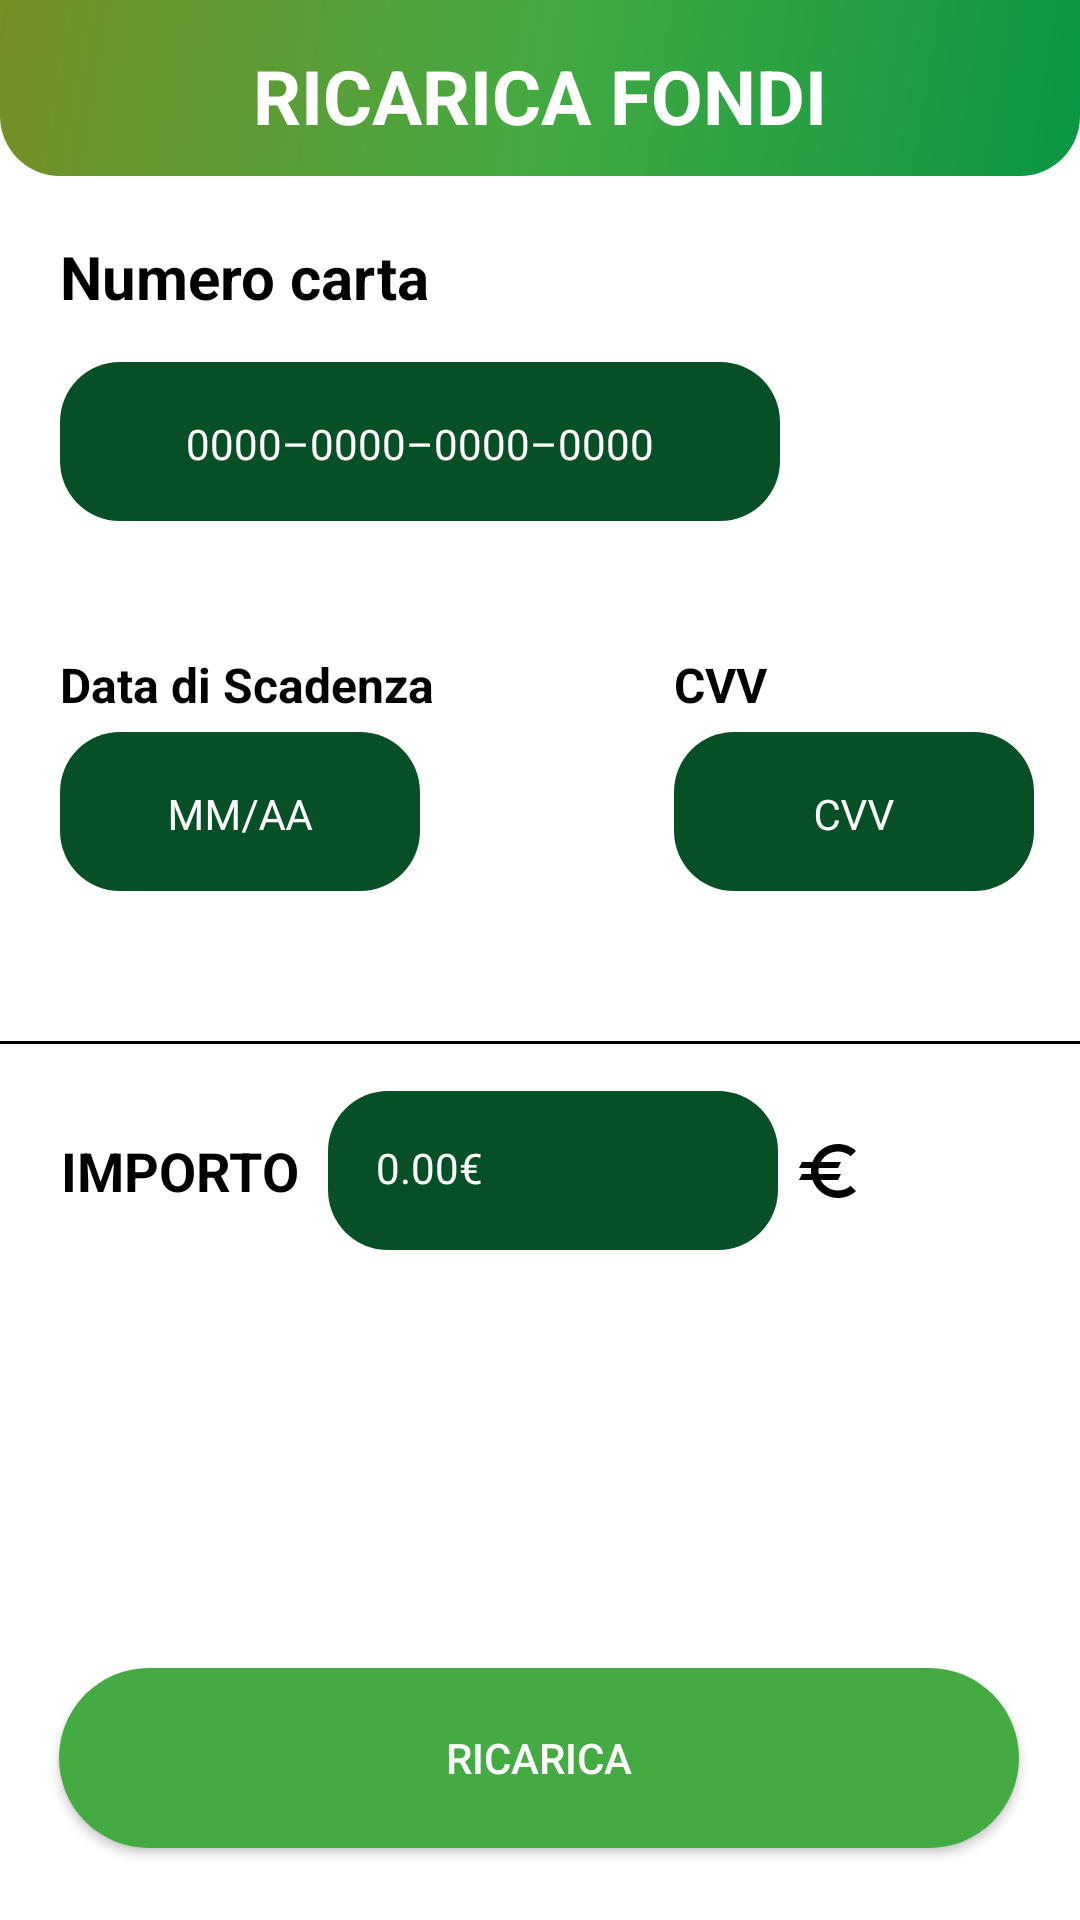

Screen size 1080*1920. Icon name, then its center in pixels as (x,y):
euro: (827,1171)
